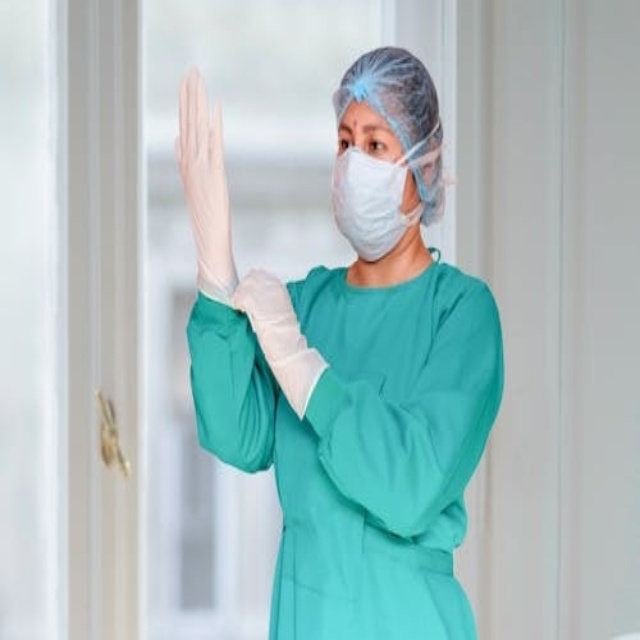Guantes: (231, 266, 331, 420), (175, 64, 238, 306)
Mascara: (332, 138, 429, 260)
Sin_gafas: (335, 115, 398, 160)
